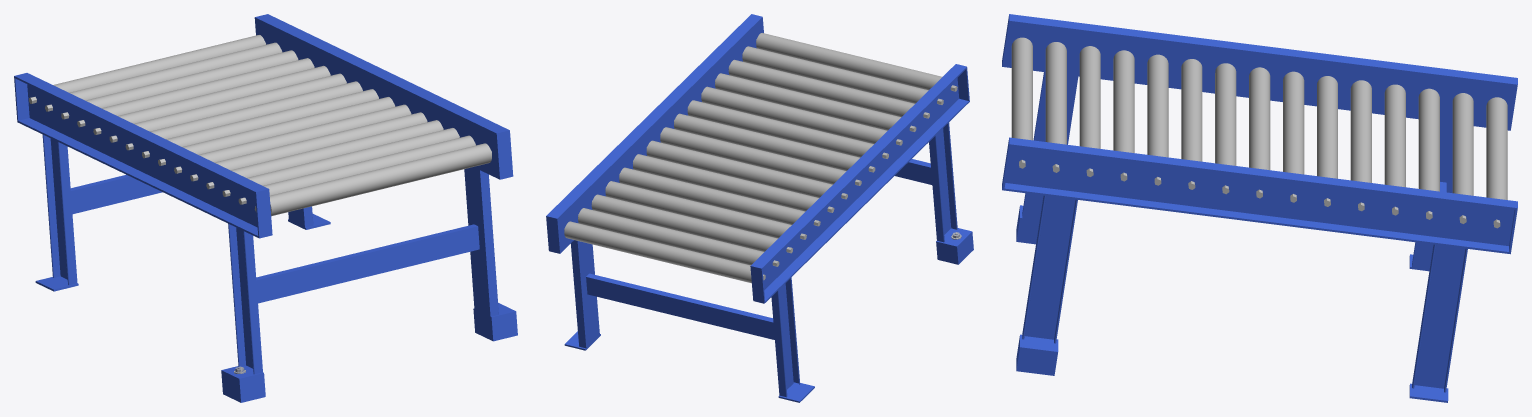
The model's file is slide.dae.
3 views of the same model, side by side, from view 1: azimuth 30°, elevation 25°; view 2: azimuth 150°, elevation 25°; view 3: azimuth 270°, elevation 25° (orthographic). The views are drawn at different scales.
Parts seen in each view (by area): view 1: SketchUp (×22); view 2: SketchUp (×22); view 3: SketchUp (×20).
Part boxes in pixels (x1,y1,x2,y2): SketchUp (×22): (14,14,517,402); SketchUp (×22): (546,14,973,402); SketchUp (×20): (1002,14,1517,402).
Size of the model in its own units: 39.25 by 60.26 by 32.6.
